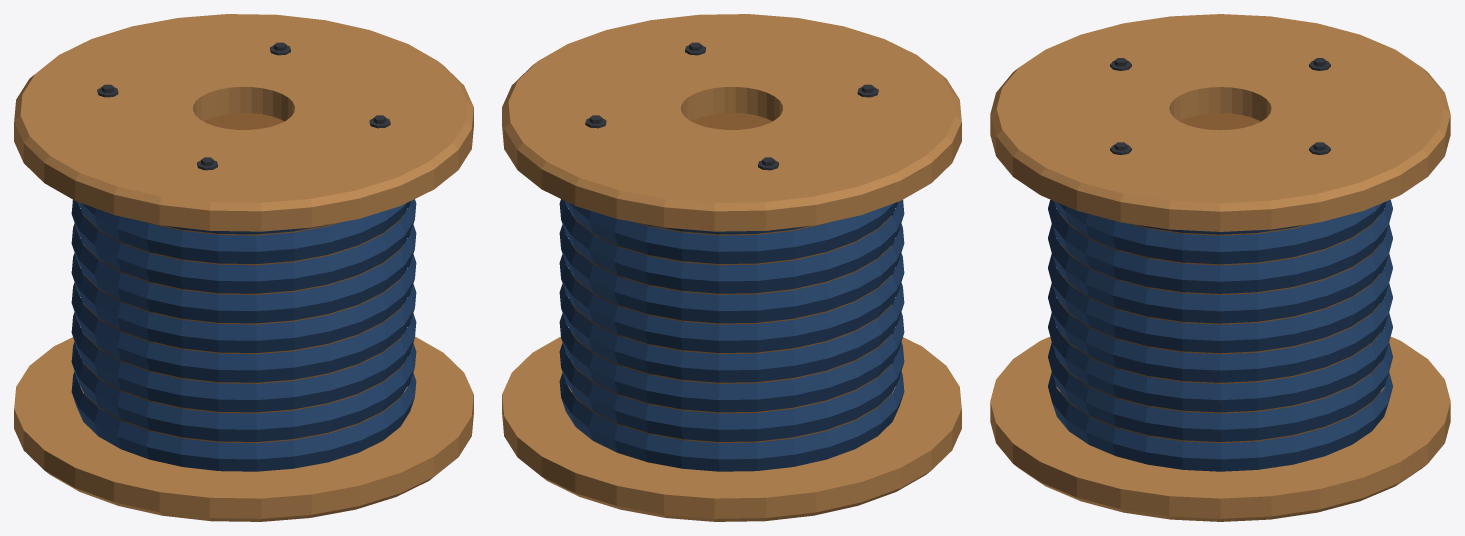
The model's file is clark q1 cable spool.fbx.
3 renders of one model, left to right at view 1: azimuth 30°, elevation 25°; view 2: azimuth 150°, elevation 25°; view 3: azimuth 270°, elevation 25°, orthographic.
Visible parts, largest first — view 1: Spool_Washer_Top_3_Spool_Washer_Top_3_Mesh; view 2: Spool_Washer_Top_3_Spool_Washer_Top_3_Mesh; view 3: Spool_Washer_Top_3_Spool_Washer_Top_3_Mesh.
Part boxes in pixels (left/top/right/bottom): Spool_Washer_Top_3_Spool_Washer_Top_3_Mesh: left=14, top=14, right=473, bottom=521; Spool_Washer_Top_3_Spool_Washer_Top_3_Mesh: left=502, top=14, right=961, bottom=521; Spool_Washer_Top_3_Spool_Washer_Top_3_Mesh: left=990, top=14, right=1450, bottom=521.
Size of the model in its own units: 1229 by 974 by 1229.
